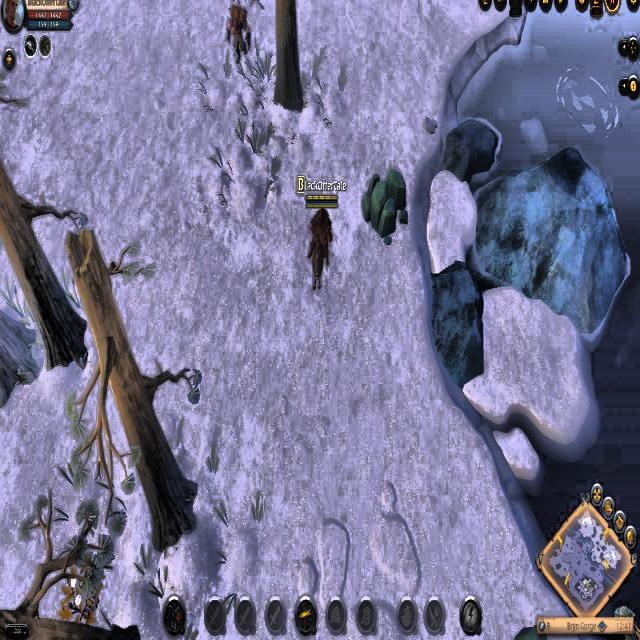sandstone: (357, 162, 413, 246)
